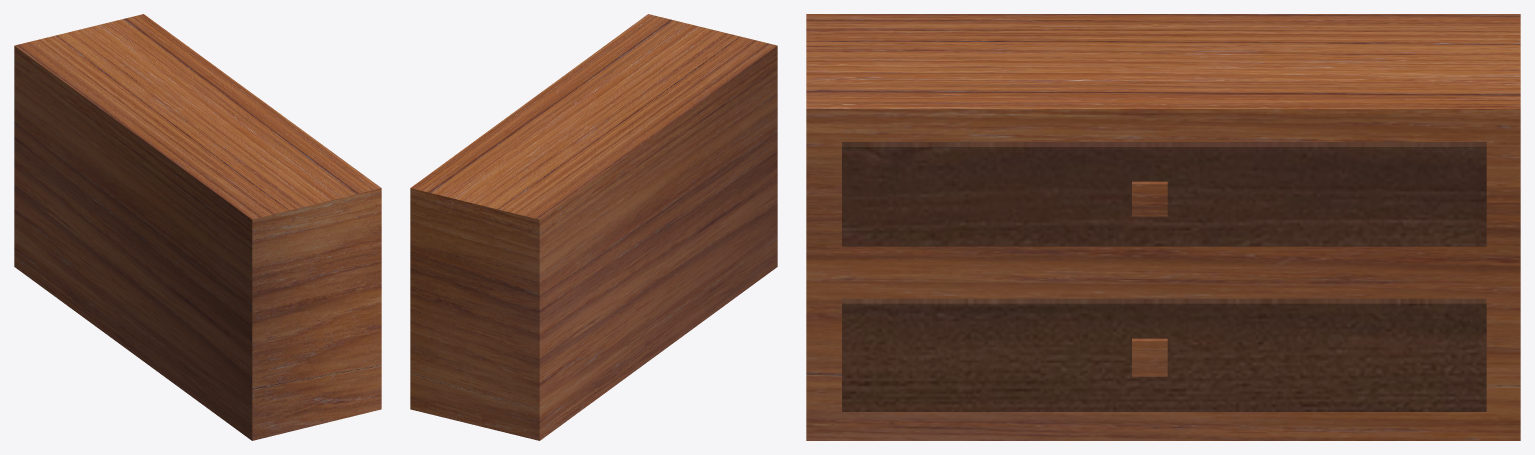
File: Drawer.glb
3 views of the same model, side by side, from view 1: azimuth 30°, elevation 25°; view 2: azimuth 150°, elevation 25°; view 3: azimuth 270°, elevation 25° (orthographic). The views are drawn at different scales.
Visible parts, largest first — view 1: Cube, Cube.002; view 2: Cube, Cube.002; view 3: Cube, Cube.001, Cube.002.
Boxes of the visible parts, x1=… form: Cube: x1=14, y1=14, x2=381, y2=440; Cube.002: x1=25, y1=227, x2=131, y2=329; Cube: x1=410, y1=14, x2=777, y2=440; Cube.002: x1=551, y1=307, x2=657, y2=409; Cube: x1=806, y1=14, x2=1520, y2=440; Cube.001: x1=842, y1=142, x2=1486, y2=411; Cube.002: x1=1132, y1=181, x2=1167, y2=376.
Size of the model in its own units: 2.16 by 3.27 by 6.37.
Materials: 2 (2 with a texture image).
